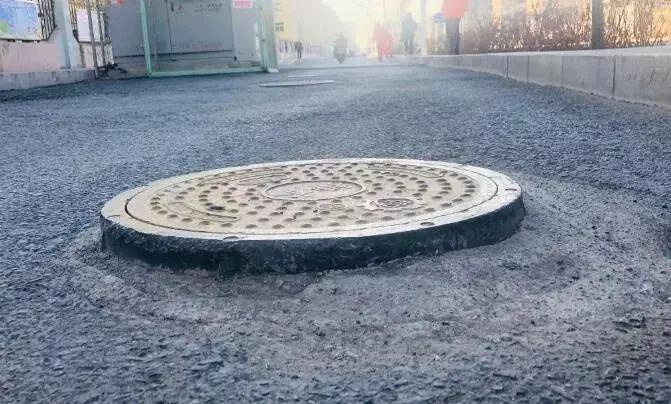wellcover: (81, 162, 536, 245)
